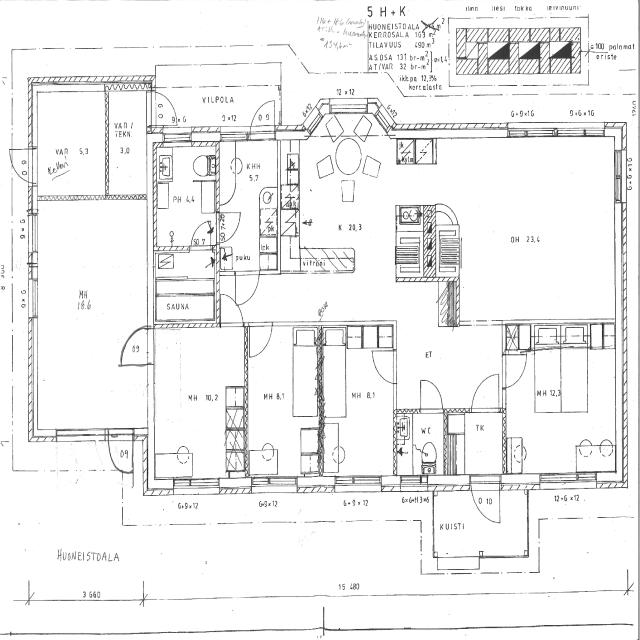door: (470, 476, 501, 524), (468, 370, 502, 412), (118, 324, 150, 368), (416, 374, 446, 414), (250, 96, 277, 136), (501, 349, 528, 389), (248, 320, 274, 359), (371, 346, 397, 384), (8, 146, 35, 182), (219, 291, 244, 327), (154, 88, 178, 125), (236, 269, 260, 305), (218, 210, 243, 241), (189, 218, 212, 249), (435, 204, 459, 232)
window: (250, 474, 298, 496), (508, 122, 558, 142), (176, 476, 222, 496), (340, 473, 384, 493), (552, 122, 606, 138), (613, 142, 626, 208), (25, 275, 40, 331), (26, 210, 41, 264), (536, 472, 574, 488), (162, 125, 192, 143), (398, 473, 424, 489), (220, 126, 249, 140), (578, 470, 598, 485)
zone: (456, 132, 625, 320), (35, 196, 150, 433), (152, 325, 247, 479), (320, 324, 394, 483), (245, 326, 320, 482), (32, 86, 108, 198), (214, 140, 279, 252), (154, 141, 217, 250), (153, 250, 217, 324), (106, 87, 147, 197), (448, 411, 505, 476), (398, 413, 442, 478), (108, 430, 134, 473)
